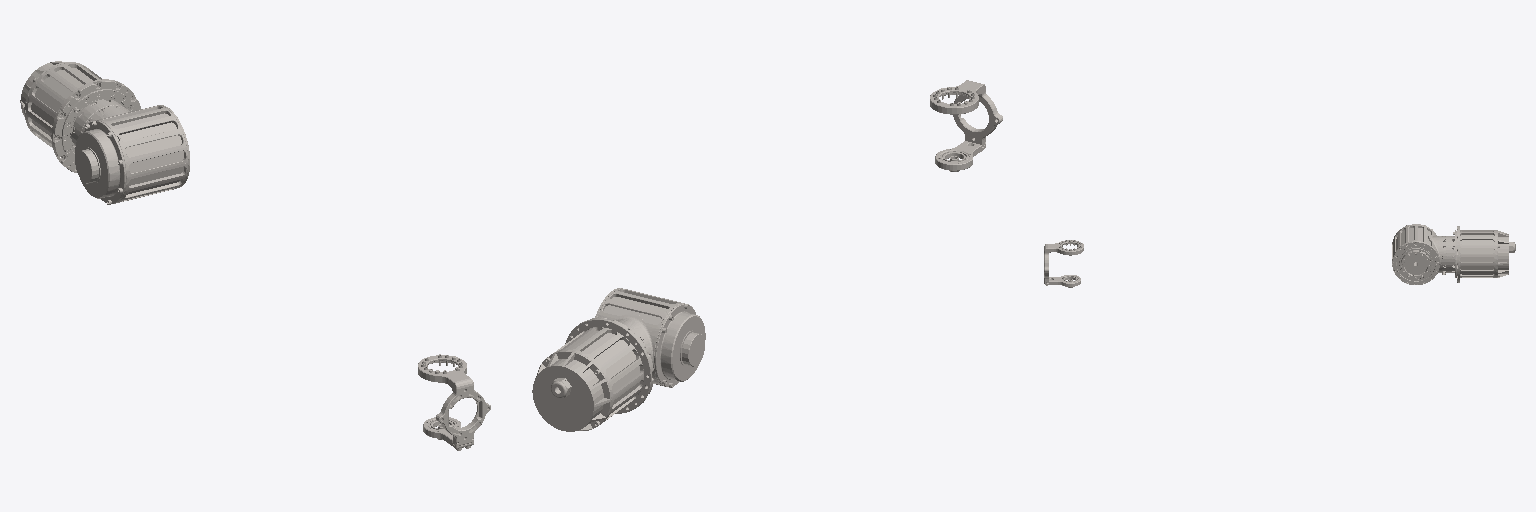
robot.urdf — right_tech_arm:
<?xml version="1.0" encoding="utf-8"?>
<!-- This URDF was automatically created by SolidWorks to URDF Exporter! Originally created by [author] ([email redacted]) 
     Commit Version: 1.5.1-0-g916b5db  Build Version: 1.5.7152.31018
     For more information, please see http://wiki.ros.org/sw_urdf_exporter -->
<robot name="right_tech_arm">
  <link name="base"/>
  <joint name="right_fixed" type="fixed">
      <origin rpy="0 -1.5708 0" xyz="0 0 0"/>
      <parent link="base"/>
      <child link="right_base_link"/>
  </joint>
  <link name="right_base_link">
    <inertial>
      <origin
        xyz="8.57458747939519E-05 0.0159181577469587 4.49386468897685E-06"
        rpy="0 0 0" />
      <mass
        value="2.72686199681351" />
      <inertia
        ixx="0.00257810020112603"
        ixy="-6.62948073057753E-07"
        ixz="-2.04644207318476E-07"
        iyy="0.00179865357616915"
        iyz="-1.77457559231209E-07"
        izz="0.00257876202594801" />
    </inertial>
    <visual>
      <origin
        xyz="0 0 0"
        rpy="0 0 0" />
      <geometry>
        <mesh
          filename="package://right_tech_arm_description/meshes/base_link.STL" />
      </geometry>
      <material
        name="">
        <color
          rgba="0.776470588235294 0.756862745098039 0.737254901960784 1" />
      </material>
    </visual>
    <collision>
      <origin
        xyz="0 0 0"
        rpy="0 0 0" />
      <geometry>
        <mesh
          filename="package://right_tech_arm_description/meshes/base_link.STL" />
      </geometry>
    </collision>
  </link>
  <link name="right_link1">
    <inertial>
      <origin
        xyz="-1.46925252975276E-05 -0.0819732537928996 0.00265946949563721"
        rpy="0 0 0" />
      <mass
        value="2.75171223036483" />
      <inertia
        ixx="0.00234713764091704"
        ixy="1.06251862032139E-07"
        ixz="-1.74355389455854E-08"
        iyy="0.00230719517966067"
        iyz="2.38741161284562E-05"
        izz="0.00179580737628463" />
    </inertial>
    <visual>
      <origin
        xyz="0 0 0"
        rpy="0 0 0" />
      <geometry>
        <mesh
          filename="package://right_tech_arm_description/meshes/Link1.STL" />
      </geometry>
      <material
        name="">
        <color
          rgba="0.776470588235294 0.756862745098039 0.737254901960784 1" />
      </material>
    </visual>
    <collision>
      <origin
        xyz="0 0 0"
        rpy="0 0 0" />
      <geometry>
        <mesh
          filename="package://right_tech_arm_description/meshes/Link1.STL" />
      </geometry>
    </collision>
  </link>
  <joint name="r_joint1" type="revolute">
    <origin
      xyz="0 0 0"
      rpy="0 0 0" />
    <parent
      link="right_base_link" />
    <child
      link="right_link1" />
    <axis
      xyz="0 -1 0" />
    <limit
      lower="-3.14"
      upper="3.14"
      effort="100"
      velocity="1" />
  </joint>
  <link name="right_link2">
    <inertial>
      <origin
        xyz="0.0764980404954968 0.00481748202467407 0.00199206449221619"
        rpy="0 0 0" />
      <mass
        value="2.6574649195446" />
      <inertia
        ixx="0.0025645031440175"
        ixy="-0.000105265607144719"
        ixz="0.000230096651712272"
        iyy="0.00422858349050002"
        iyz="1.44287715722931E-05"
        izz="0.00351176407833023" />
    </inertial>
    <visual>
      <origin
        xyz="0 0 0"
        rpy="0 0 0" />
      <geometry>
        <mesh
          filename="package://right_tech_arm_description/meshes/Link2.STL" />
      </geometry>
      <material
        name="">
        <color
          rgba="0.776470588235294 0.756862745098039 0.737254901960784 1" />
      </material>
    </visual>
    <collision>
      <origin
        xyz="0 0 0"
        rpy="0 0 0" />
      <geometry>
        <mesh
          filename="package://right_tech_arm_description/meshes/Link2.STL" />
      </geometry>
    </collision>
  </link>
  <joint name="r_joint2" type="revolute">
    <origin
      xyz="0 -0.0862 0"
      rpy="3.1416 0 -1.5708" />
    <parent
      link="right_link1" />
    <child
      link="right_link2" />
    <axis
      xyz="0 0 -1" />
    <limit
      lower="-3.14"
      upper="3.14"
      effort="100"
      velocity="1" />
  </joint>
  <link name="right_link3">
    <inertial>
      <origin
        xyz="0.0140860843673951 -0.00248705766956217 0.13630161031203"
        rpy="0 0 0" />
      <mass
        value="3.49246367256797" />
      <inertia
        ixx="0.00578259076483522"
        ixy="-5.30643728253829E-06"
        ixz="-0.00023673418437427"
        iyy="0.00619424437259449"
        iyz="-1.73094897118589E-05"
        izz="0.00215333474242538" />
    </inertial>
    <visual>
      <origin
        xyz="0 0 0"
        rpy="0 0 0" />
      <geometry>
        <mesh
          filename="package://right_tech_arm_description/meshes/Link3.STL" />
      </geometry>
      <material
        name="">
        <color
          rgba="0.776470588235294 0.756862745098039 0.737254901960784 1" />
      </material>
    </visual>
    <collision>
      <origin
        xyz="0 0 0"
        rpy="0 0 0" />
      <geometry>
        <mesh
          filename="package://right_tech_arm_description/meshes/Link3.STL" />
      </geometry>
    </collision>
  </link>
  <joint name="r_joint3" type="revolute">
    <origin
      xyz="0.12382 0.0078062 0"
      rpy="-1.5708 0 -1.508" />
    <parent
      link="right_link2" />
    <child
      link="right_link3" />
    <axis
      xyz="0 0 1" />
    <limit
      lower="-3.14"
      upper="3.14"
      effort="100"
      velocity="1" />
  </joint>
  <link name="right_link4">
    <inertial>
      <origin
        xyz="0.0204908658553557 -0.0600874448899092 0.00493844326314776"
        rpy="0 0 0" />
      <mass
        value="1.45563047066265" />
      <inertia
        ixx="0.000979690663012314"
        ixy="0.000116571109556567"
        ixz="9.00260007805409E-07"
        iyy="0.00056064446272582"
        iyz="3.19267908496477E-06"
        izz="0.00107276461190468" />
    </inertial>
    <visual>
      <origin
        xyz="0 0 0"
        rpy="0 0 0" />
      <geometry>
        <mesh
          filename="package://right_tech_arm_description/meshes/Link4.STL" />
      </geometry>
      <material
        name="">
        <color
          rgba="0.776470588235294 0.756862745098039 0.737254901960784 1" />
      </material>
    </visual>
    <collision>
      <origin
        xyz="0 0 0"
        rpy="0 0 0" />
      <geometry>
        <mesh
          filename="package://right_tech_arm_description/meshes/Link4.STL" />
      </geometry>
    </collision>
  </link>
  <joint name="r_joint4" type="revolute">
    <origin
      xyz="0.024021 0 0.17594"
      rpy="-1.5708 -0.06279 -3.1416" />
    <parent
      link="right_link3" />
    <child
      link="right_link4" />
    <axis
      xyz="0 0 -1" />
    <limit
      lower="-3.14"
      upper="3.14"
      effort="100"
      velocity="1" />
  </joint>
  <link name="right_link5">
    <inertial>
      <origin
        xyz="0.000182396787910381 -0.00375026510782728 0.0928089608026528"
        rpy="0 0 0" />
      <mass
        value="1.37905665844778" />
      <inertia
        ixx="0.00287363361740552"
        ixy="-6.2482250886502E-07"
        ixz="1.64638572405256E-06"
        iyy="0.00310910316222121"
        iyz="0.000226324244350857"
        izz="0.000518324625587164" />
    </inertial>
    <visual>
      <origin
        xyz="0 0 0"
        rpy="0 0 0" />
      <geometry>
        <mesh
          filename="package://right_tech_arm_description/meshes/Link5.STL" />
      </geometry>
      <material
        name="">
        <color
          rgba="0.776470588235294 0.756862745098039 0.737254901960784 1" />
      </material>
    </visual>
    <collision>
      <origin
        xyz="0 0 0"
        rpy="0 0 0" />
      <geometry>
        <mesh
          filename="package://right_tech_arm_description/meshes/Link5.STL" />
      </geometry>
    </collision>
  </link>
  <joint name="r_joint5" type="revolute">
    <origin
      xyz="0.024169 -0.112 0"
      rpy="-1.5708 0 -3.1416" />
    <parent
      link="right_link4" />
    <child
      link="right_link5" />
    <axis
      xyz="0 0 1" />
    <limit
      lower="-3.14"
      upper="3.14"
      effort="100"
      velocity="1" />
  </joint>
  <link name="right_link6">
    <inertial>
      <origin
        xyz="-0.00162019503613955 -0.0454076745447095 0.000186502335800943"
        rpy="0 0 0" />
      <mass
        value="0.939430429723491" />
      <inertia
        ixx="0.000443303277433977"
        ixy="-3.20915628911872E-06"
        ixz="1.97263537086809E-06"
        iyy="0.000230390757161879"
        iyz="4.95250783014956E-05"
        izz="0.000293259252389475" />
    </inertial>
    <!-- <visual>
      <origin
        xyz="0 0 0"
        rpy="0 0 0" />
      <geometry>
        <mesh
          filename="package://right_tech_arm_description/meshes/Link6.STL" />
      </geometry>
      <material
        name="">
        <color
          rgba="0.776470588235294 0.756862745098039 0.737254901960784 1" />
      </material>
    </visual>
    <collision>
      <origin
        xyz="0 0 0"
        rpy="0 0 0" />
      <geometry>
        <mesh
          filename="package://right_tech_arm_description/meshes/Link6.STL" />
      </geometry>
    </collision> -->
  </link>
  <joint name="r_joint6" type="revolute">
    <origin
      xyz="0.00016852 0 0.134"
      rpy="-1.5708 0 0" />
    <parent
      link="right_link5" />
    <child
      link="right_link6" />
    <axis
      xyz="0 0 1" />
    <limit
      lower="-3.14"
      upper="3.14"
      effort="100"
      velocity="1" />
  </joint>
  <link name="right_link7">
    <inertial>
      <origin
        xyz="-0.018898384598353 3.7296259750834E-08 -0.00287908663899456"
        rpy="0 0 0" />
      <mass
        value="0.141939927009374" />
      <inertia
        ixx="4.84438729161962E-05"
        ixy="1.00199802247405E-11"
        ixz="-1.64380672706217E-05"
        iyy="6.9517059940098E-05"
        iyz="-1.34923647434292E-11"
        izz="5.37115452262546E-05" />
    </inertial>
    <visual>
      <origin
        xyz="0 0 0"
        rpy="0 0 0" />
      <geometry>
        <mesh
          filename="package://right_tech_arm_description/meshes/Link7.STL" />
      </geometry>
      <material
        name="">
        <color
          rgba="0.776470588235294 0.756862745098039 0.737254901960784 1" />
      </material>
    </visual>
    <collision>
      <origin
        xyz="0 0 0"
        rpy="0 0 0" />
      <geometry>
        <mesh
          filename="package://right_tech_arm_description/meshes/Link7.STL" />
      </geometry>
    </collision>
  </link>
  <joint name="r_joint7" type="revolute">
    <origin
      xyz="0.0024016 -0.0 0"
      rpy="1.5708 0 1.5708" />
    <parent
      link="right_link6" />
    <child
      link="right_link7" />
    <axis
      xyz="0 0 1" />
    <limit
      lower="-3.14"
      upper="3.14"
      effort="100"
      velocity="1" />
  </joint>

  <link name="right_ee"/>
  <joint name="r_jointee_fixed" type="fixed">
    <origin xyz="0 0 0" rpy="-1.57 3.14159 0"/>
    <parent link="right_link7"/>
    <child link="right_ee"/>
  </joint>
</robot>

--- What the picture shows (computed from the rendered views, not written in the file) ---
The picture shows the robot from 3 angles, left to right: view 1: azimuth 30°, elevation 25°; view 2: azimuth 150°, elevation 25°; view 3: azimuth 270°, elevation 25°; orthographic projection.
Model right_tech_arm with 10 links and 9 joints (7 revolute, 2 fixed), rooted at base, posed every joint at zero.
Visible links, largest first — view 1: right_link1, right_base_link, right_link7; view 2: right_base_link, right_link1, right_link7; view 3: right_link1, right_base_link, right_link7.
Boxes of the visible links, x1,y1,x2,y2 form: right_link1: [71, 99, 189, 204]; right_base_link: [20, 61, 140, 172]; right_link7: [418, 354, 490, 450]; right_base_link: [532, 317, 653, 431]; right_link1: [595, 288, 705, 387]; right_link7: [930, 80, 1002, 171]; right_link1: [1392, 224, 1454, 284]; right_base_link: [1452, 226, 1515, 282]; right_link7: [1044, 240, 1083, 287].
Bounding box of the posed robot: 0.097 × 0.7452 × 0.1017 m (x, y, z).
Meshes: 7 distinct files referenced, 3 mesh visuals loaded (3 binary STL); not drawn: 4 (reference not matched to a file when rendering).